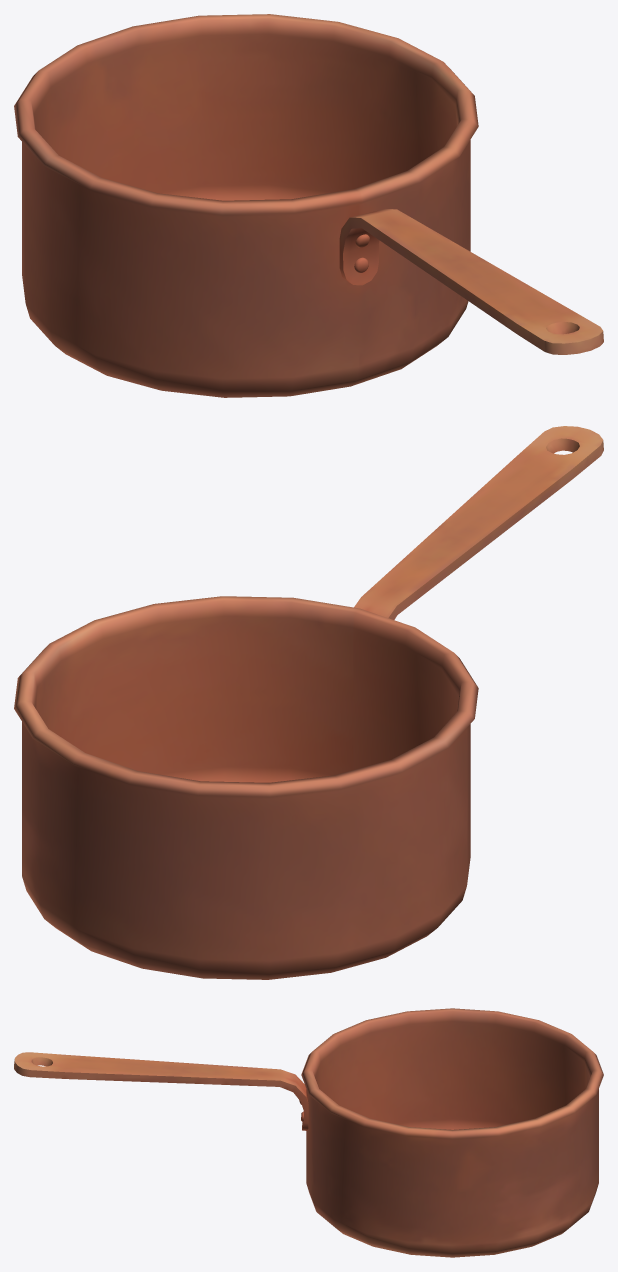
The model's file is SM_SaucePan_Copper_Pan_01.fbx.
3 views of the same model, one above another, from view 1: azimuth 30°, elevation 25°; view 2: azimuth 150°, elevation 25°; view 3: azimuth 270°, elevation 25° (orthographic). The views are drawn at different scales.
Visible parts, largest first — view 1: SM_SaucePan_Copper_Pan_01_LOD0; view 2: SM_SaucePan_Copper_Pan_01_LOD0; view 3: SM_SaucePan_Copper_Pan_01_LOD0.
Part boxes in pixels (bbox=[...]): SM_SaucePan_Copper_Pan_01_LOD0: bbox=[14, 14, 603, 397]; SM_SaucePan_Copper_Pan_01_LOD0: bbox=[14, 426, 603, 979]; SM_SaucePan_Copper_Pan_01_LOD0: bbox=[14, 1008, 603, 1257].
Bounding box in the file's own units: 16.37 × 31.9 × 8.53.
1 material, 1 textured.
